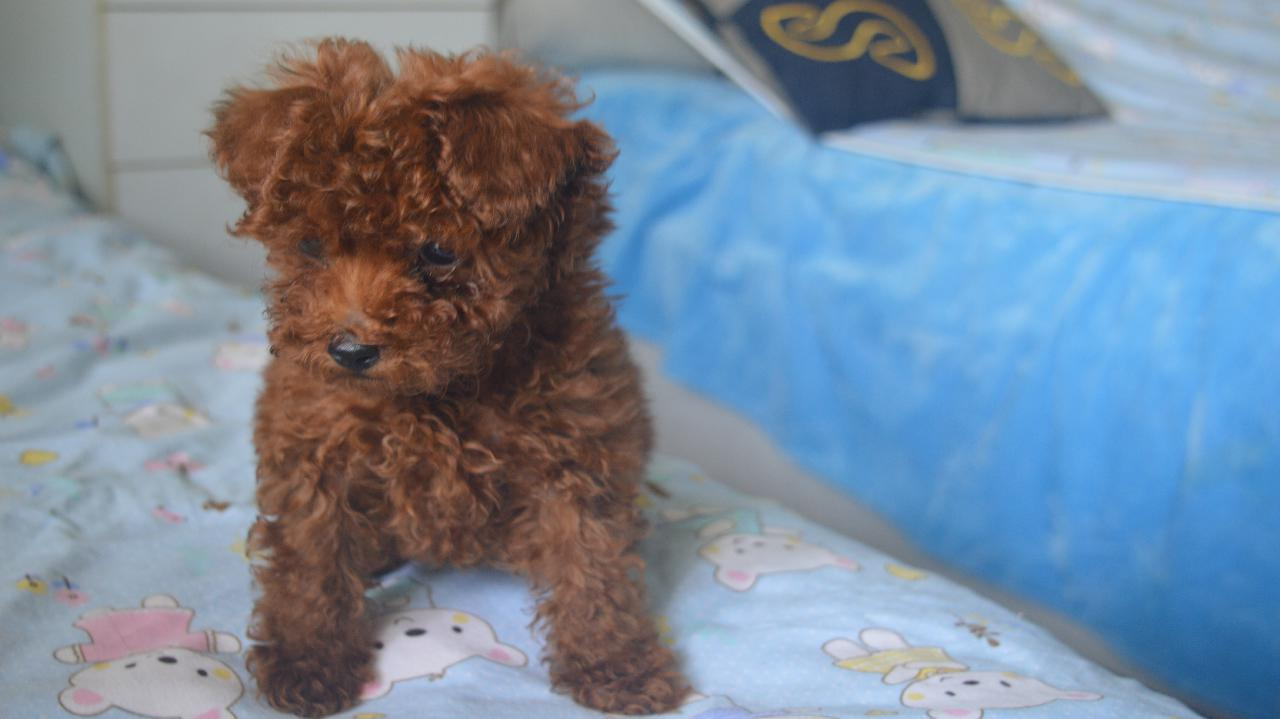coin: (211, 39, 705, 714)
